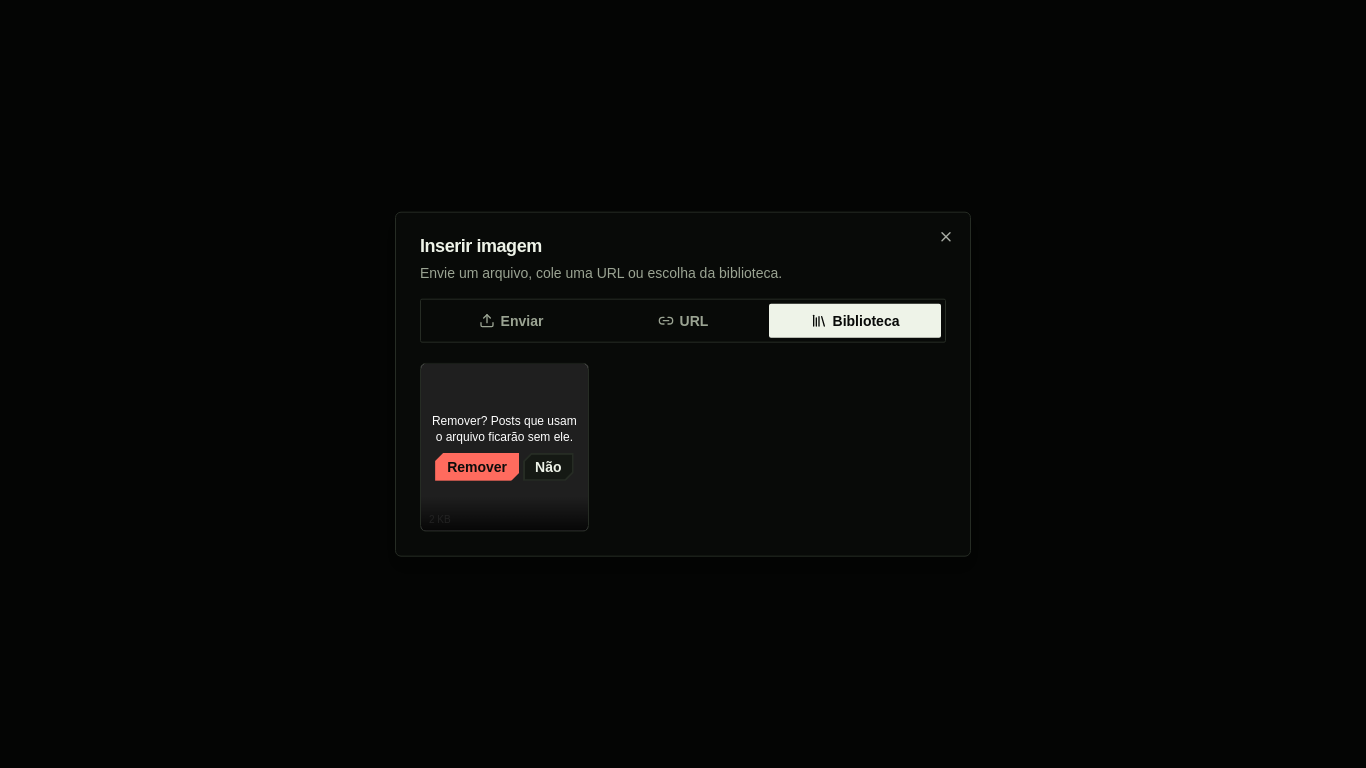
<MediaDialog /> — biblioteca › remove um arquivo depois de confirmar
Earlier steps of the test are not shown.
Expected: the text "Posts que usam o arquivo ficarão sem ele" is shown, [432,414,577,444]
What coordinates should you click on to do the following:
click the button "Remover"
I would click on:
 (477, 467)
Its box is [435,453,519,481].
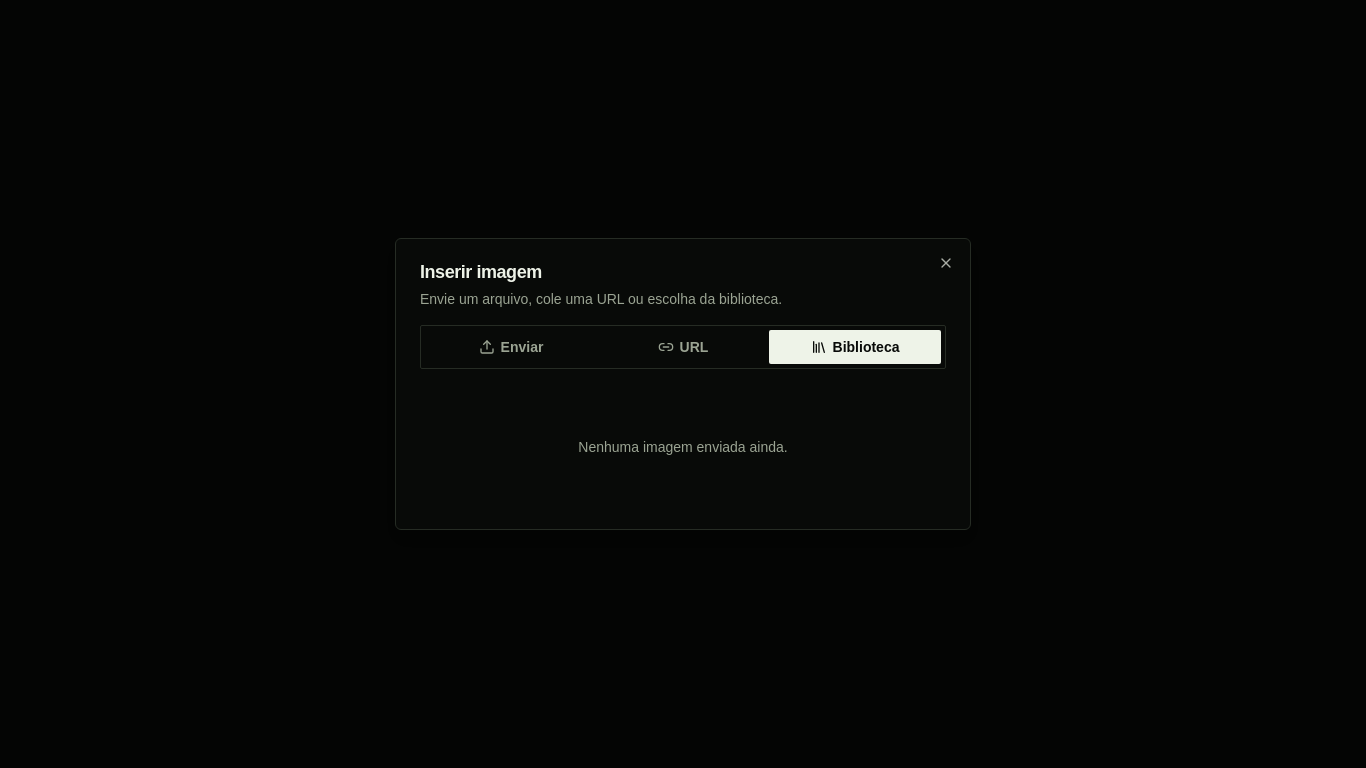
Result: the text "Nenhuma imagem enviada ainda." is shown at [578,439,788,455]
